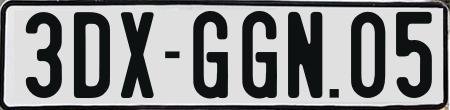0: (350, 12, 386, 98)
3: (26, 11, 67, 101)
5: (393, 9, 434, 97)
D: (74, 11, 113, 100)
G: (241, 9, 280, 97), (192, 10, 230, 99)
N: (285, 9, 323, 97)
X: (118, 11, 155, 102)
